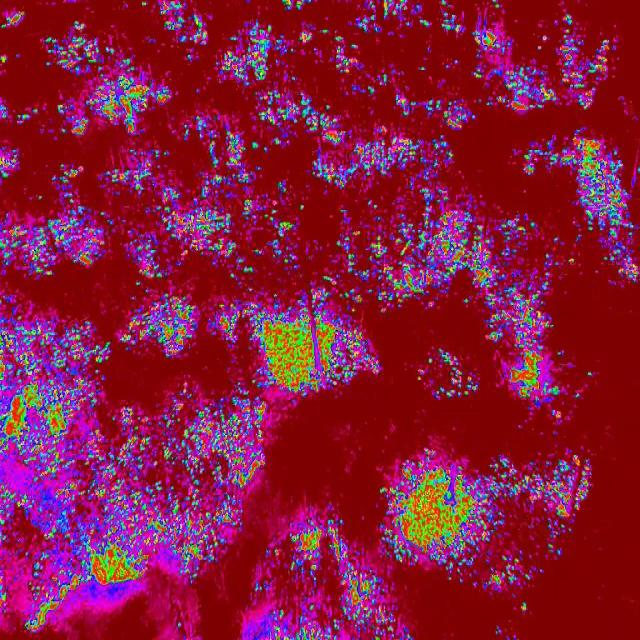fire: (97, 106, 483, 293), (0, 0, 629, 109), (0, 293, 268, 487), (386, 452, 594, 590), (0, 486, 245, 584), (482, 207, 580, 423), (254, 522, 414, 640), (516, 134, 640, 284), (268, 287, 387, 404), (0, 210, 107, 276), (0, 109, 144, 142), (0, 584, 76, 634), (418, 345, 479, 397), (46, 163, 88, 211), (0, 143, 21, 181)
